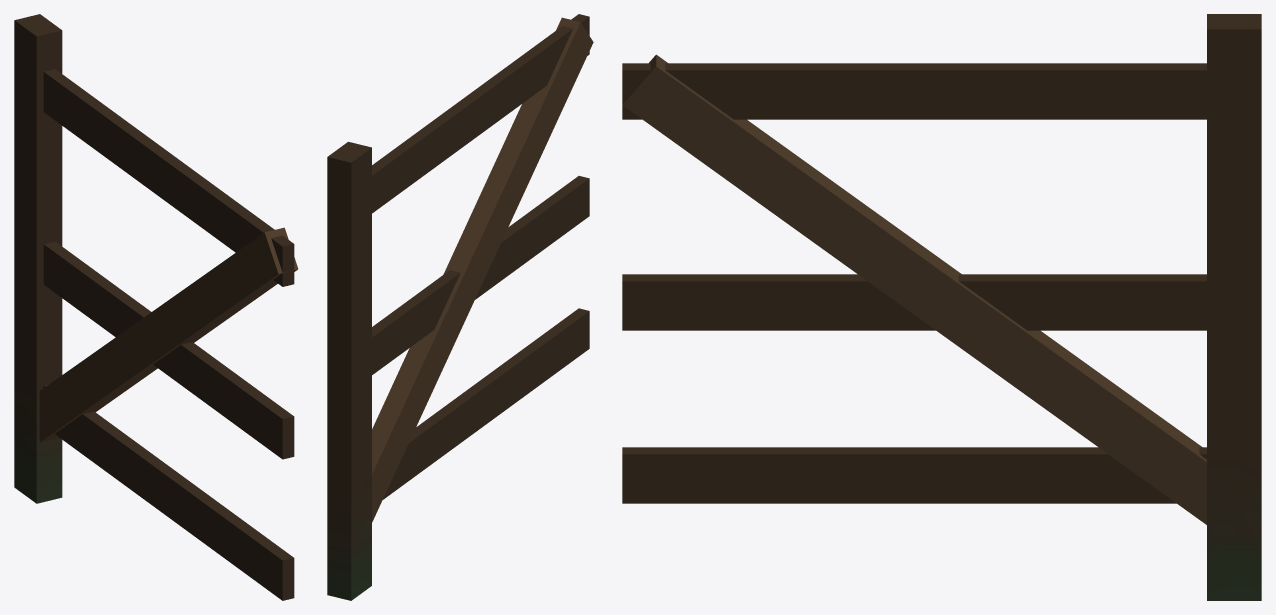
File: FenceFinal.fbx
The picture shows the model from 3 angles, left to right: view 1: azimuth 30°, elevation 25°; view 2: azimuth 150°, elevation 25°; view 3: azimuth 270°, elevation 25°; orthographic projection. The views are drawn at different scales.
Visible parts, largest first — view 1: Fence; view 2: Fence; view 3: Fence.
Boxes of the visible parts, x1,y1,x2,y2 form: Fence: (14, 14, 298, 600); Fence: (327, 14, 593, 600); Fence: (622, 14, 1261, 600).
Bounding box in the file's own units: 5.43 × 94.89 × 96.15.
